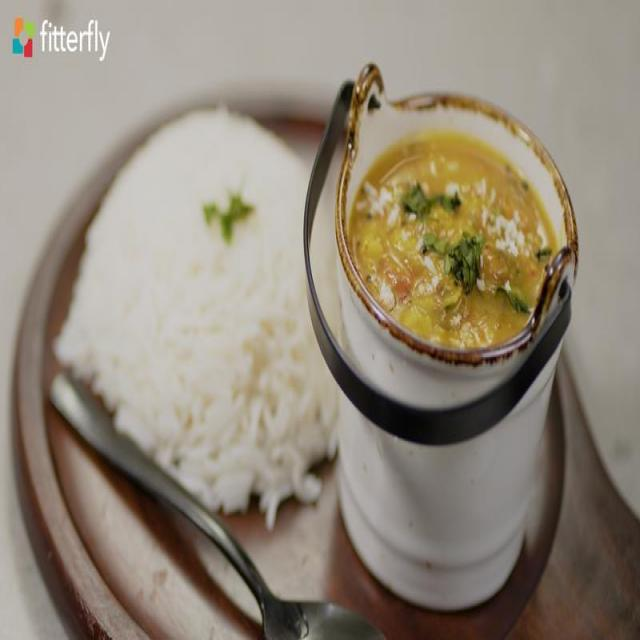dal: (346, 129, 558, 355)
